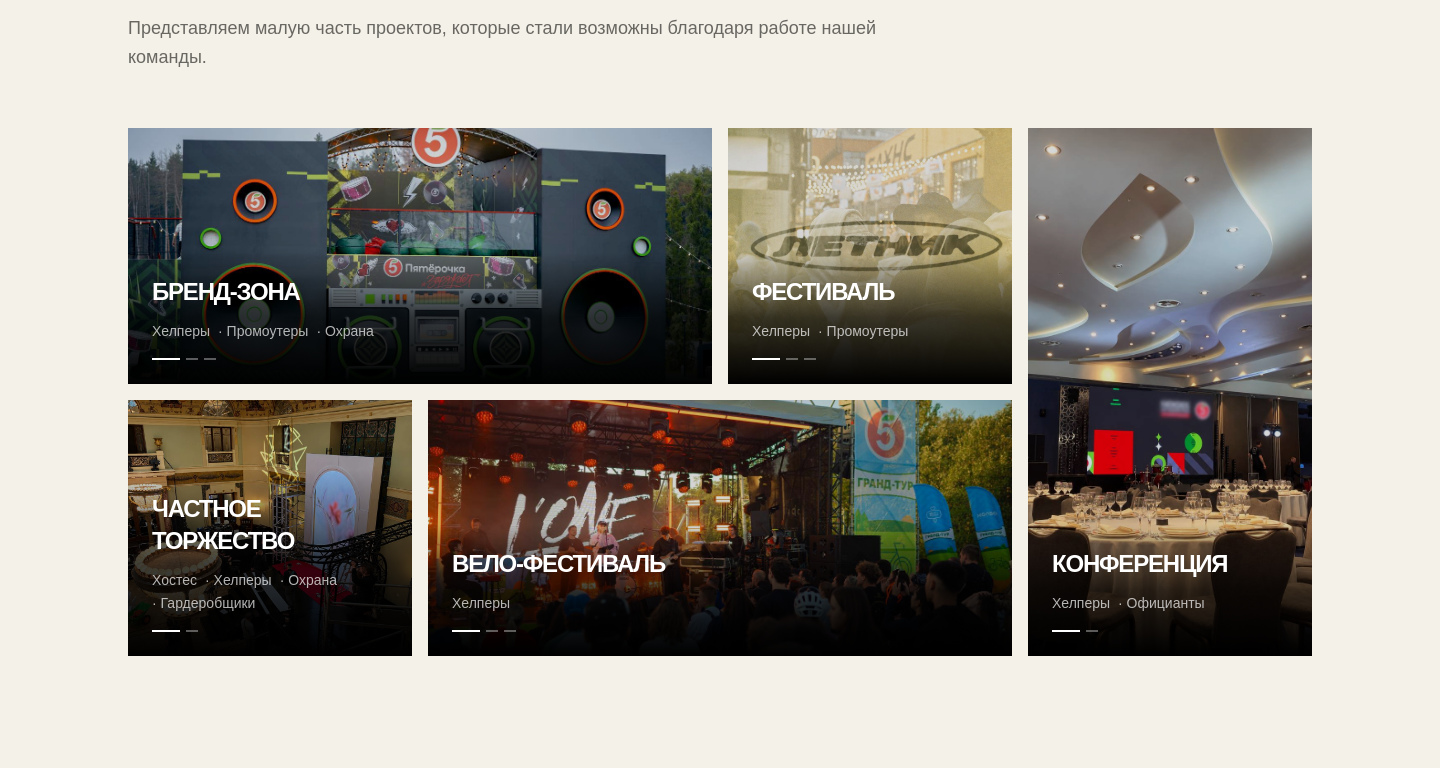
Test case: data-driven content sections › opens the conference project with its approved content
(page scrolled)
Click the button named "Открыть описание проекта Конференция": {"x": 1170, "y": 392} [1028,128,1312,656]
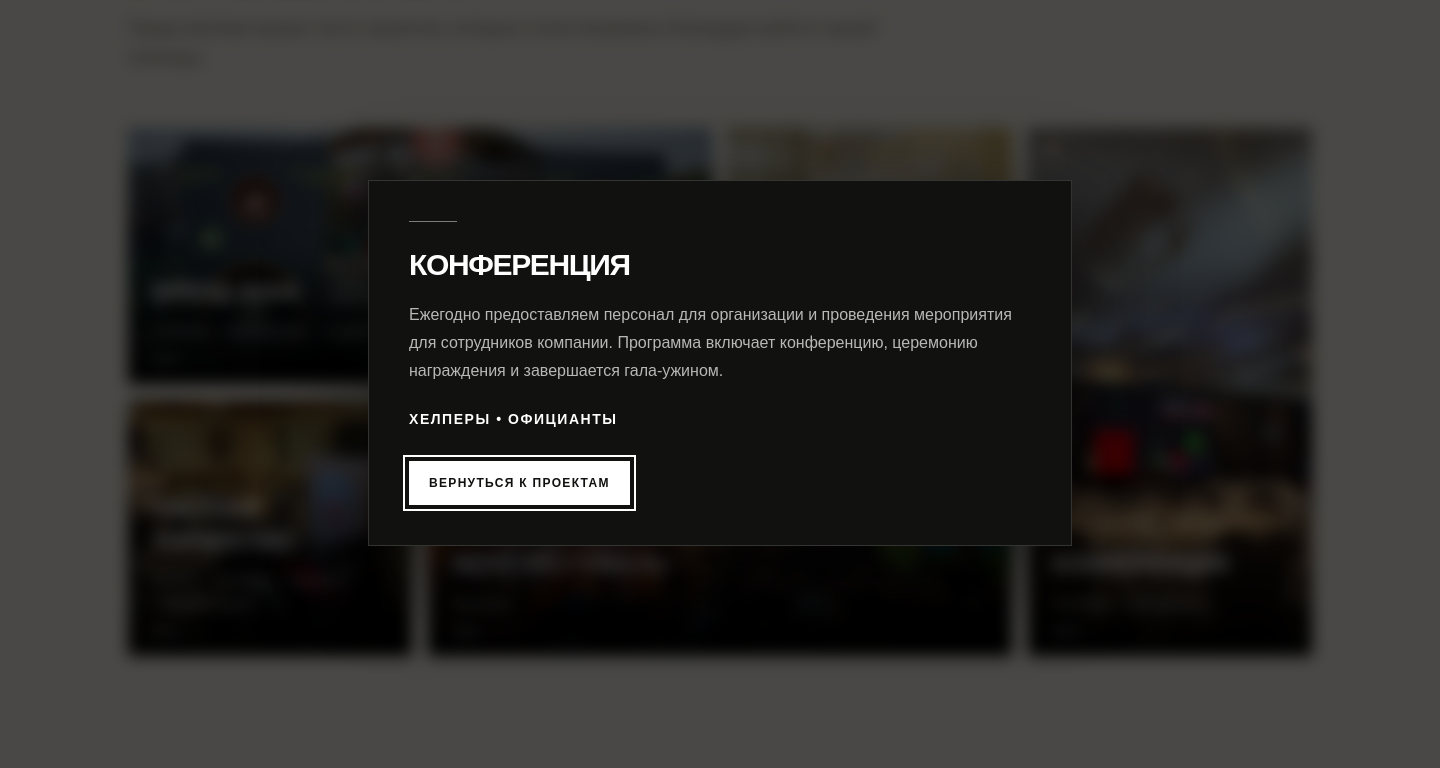
Check: the text "Ежегодно предоставляем персонал для организации и проведения мероприятия для сотрудников компании. Программа включает ко" is shown, box [409,306,1012,379]
Check: the text "Хелперы • Официанты" is shown, box [409,411,618,427]
